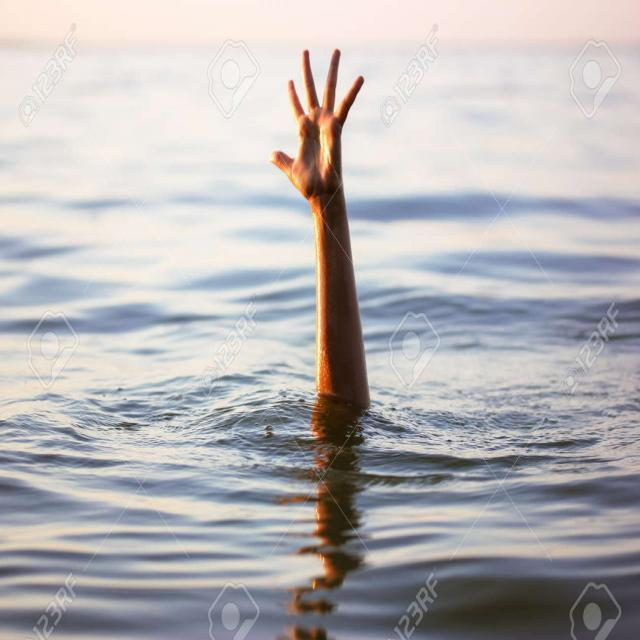Out of Water: (260, 36, 407, 510)
